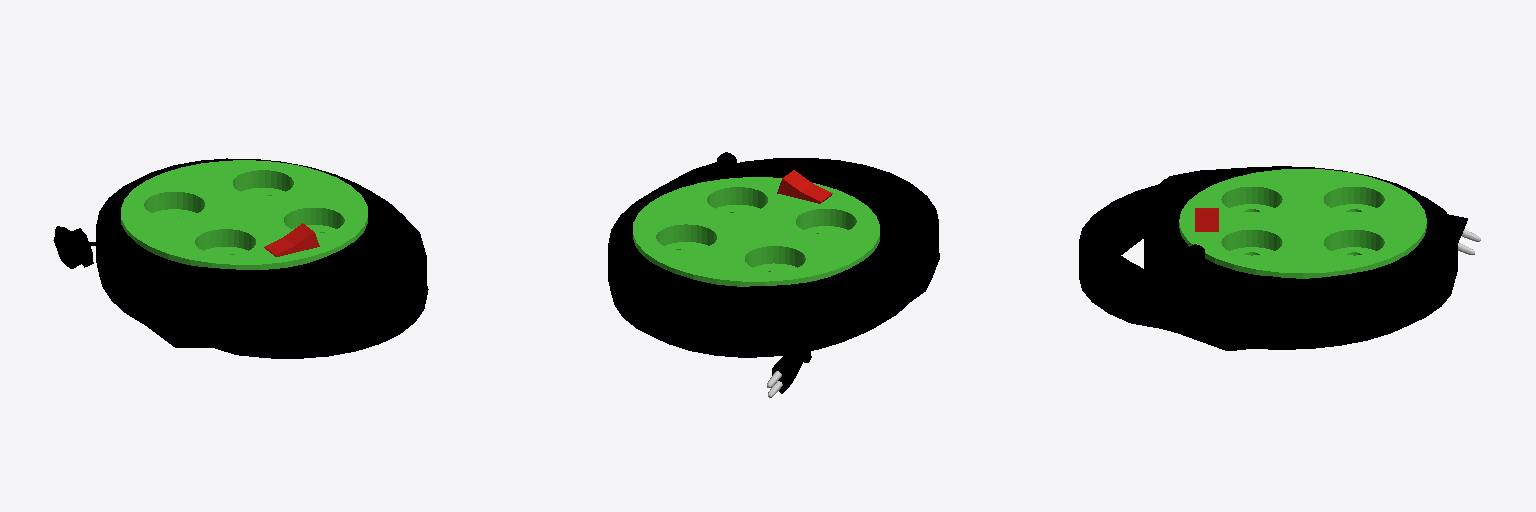
Rendered from TERMINAL-16.obj.
3 views of the same model, side by side, from view 1: azimuth 30°, elevation 25°; view 2: azimuth 150°, elevation 25°; view 3: azimuth 270°, elevation 25° (orthographic).
Parts seen in each view (by area): view 1: Cylinder, Cylinder.001, Cube.002, Transparent-Switch; view 2: Cylinder, Cylinder.001, Cube.002, Transparent-Switch; view 3: Cylinder, Cylinder.001, Transparent-Switch.
Part boxes in pixels (left/top/right/bottom): Cylinder: left=96, top=158, right=428, bottom=358; Cylinder.001: left=121, top=160, right=367, bottom=269; Cube.002: left=54, top=226, right=93, bottom=268; Transparent-Switch: left=264, top=223, right=319, bottom=256; Cylinder: left=608, top=158, right=939, bottom=357; Cylinder.001: left=633, top=177, right=879, bottom=286; Cube.002: left=772, top=334, right=811, bottom=393; Transparent-Switch: left=777, top=170, right=832, bottom=203; Cylinder: left=1079, top=166, right=1457, bottom=350; Cylinder.001: left=1179, top=169, right=1426, bottom=278; Transparent-Switch: left=1195, top=208, right=1218, bottom=231.
Size of the model in its own units: 15 by 5.58 by 19.69.